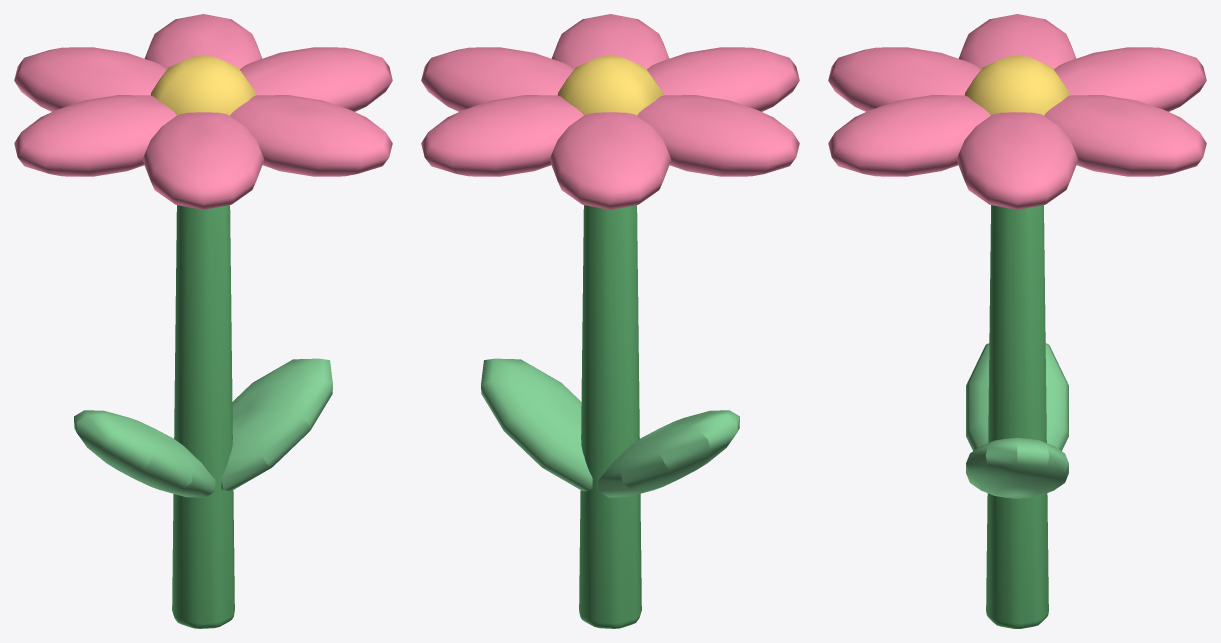
File: object-wish-flower.glb
3 renders of one model, left to right at view 1: azimuth 30°, elevation 25°; view 2: azimuth 150°, elevation 25°; view 3: azimuth 270°, elevation 25°, orthographic.
Parts seen in each view (by area): view 1: part-bloom-mesh, part-plant-mesh; view 2: part-bloom-mesh, part-plant-mesh; view 3: part-bloom-mesh, part-plant-mesh.
Boxes of the visible parts, x1,y1,x2,y2 form: part-bloom-mesh: (14, 14, 392, 209); part-plant-mesh: (74, 205, 332, 628); part-bloom-mesh: (421, 14, 799, 209); part-plant-mesh: (481, 205, 739, 628); part-bloom-mesh: (828, 14, 1206, 209); part-plant-mesh: (966, 205, 1068, 628).
Size of the model in its own units: 0.874 by 1.25 by 0.771.
